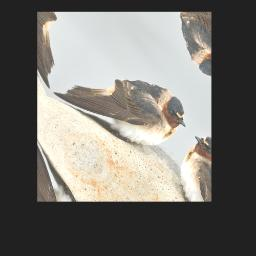Swallow: (52, 27, 195, 181)
